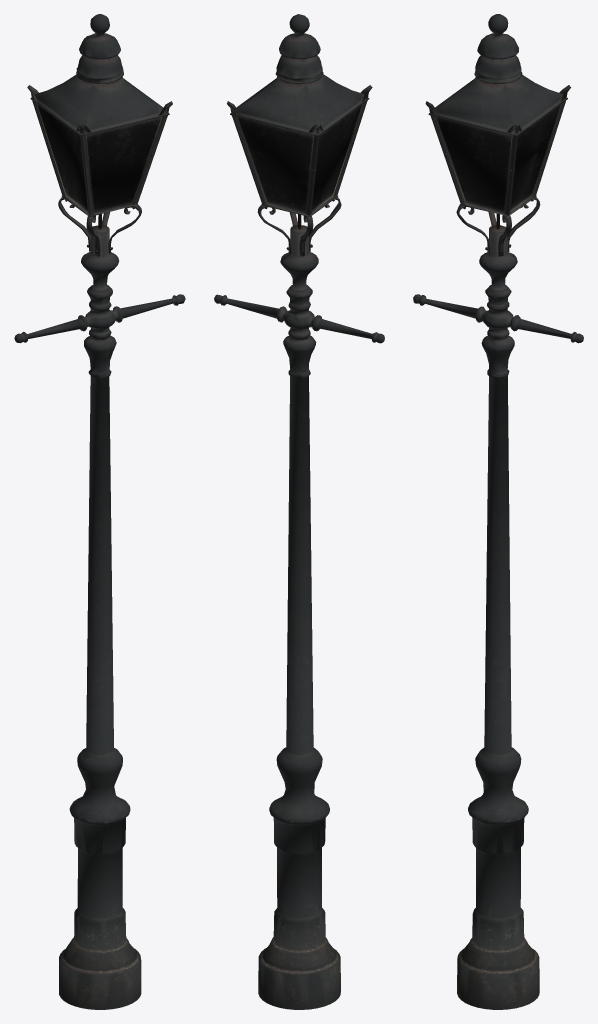
File: street_lamp_01.053d456526.glb
The picture shows the model from 3 angles, left to right: view 1: azimuth 30°, elevation 25°; view 2: azimuth 150°, elevation 25°; view 3: azimuth 330°, elevation 25°; orthographic projection.
Visible parts, largest first — view 1: street_lamp_01; view 2: street_lamp_01; view 3: street_lamp_01.
Part boxes in pixels (x1,y1,x2,y2): street_lamp_01: [14, 14, 185, 1009]; street_lamp_01: [214, 14, 384, 1009]; street_lamp_01: [413, 14, 583, 1009].
Bounding box in the file's own units: 0.7035 × 3.87 × 0.3856.
2 materials, 2 textured.
